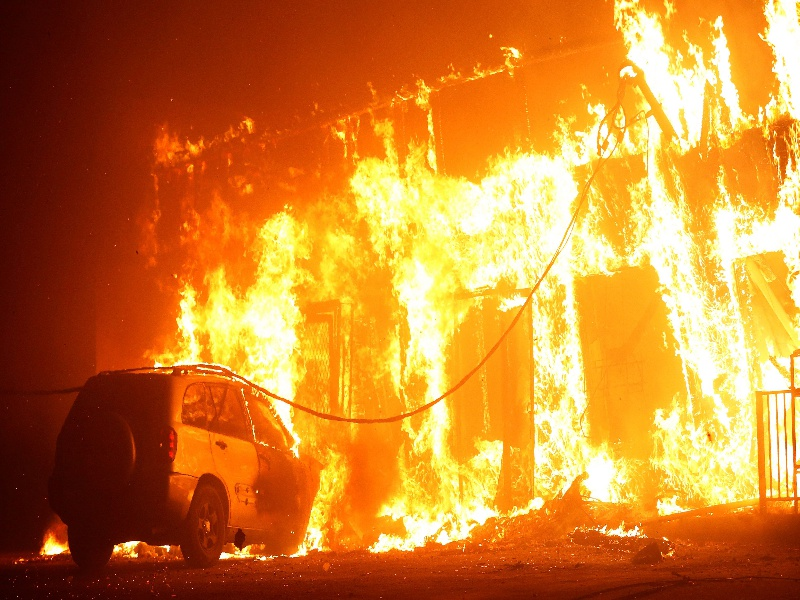fire: (167, 23, 800, 557), (27, 525, 69, 559), (111, 537, 147, 561)
